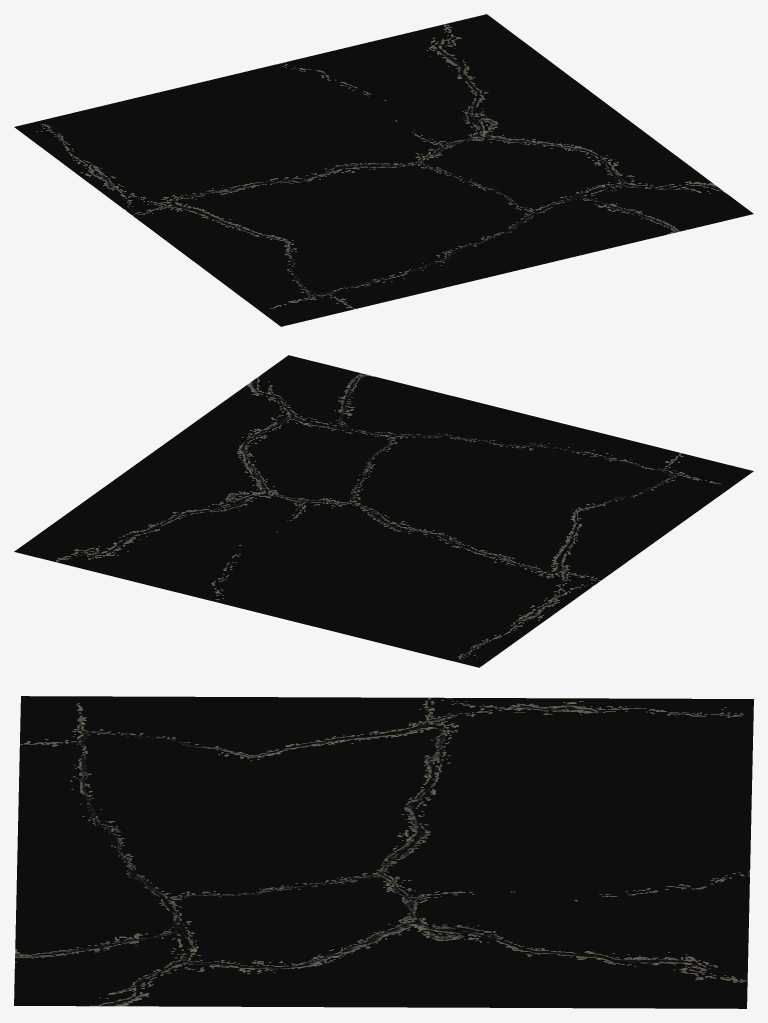
File: Rubble3.fbx
3 views of the same model, one above another, from view 1: azimuth 30°, elevation 25°; view 2: azimuth 150°, elevation 25°; view 3: azimuth 270°, elevation 25° (orthographic). The views are drawn at different scales.
Parts seen in each view (by area): view 1: Rubble3; view 2: Rubble3; view 3: Rubble3.
Boxes of the visible parts, left/top/right/bottom form: Rubble3: left=14, top=14, right=753, bottom=326; Rubble3: left=14, top=355, right=753, bottom=667; Rubble3: left=14, top=696, right=753, bottom=1008.
Size of the model in its own units: 84.9 by 1.87e-14 by 84.9.
